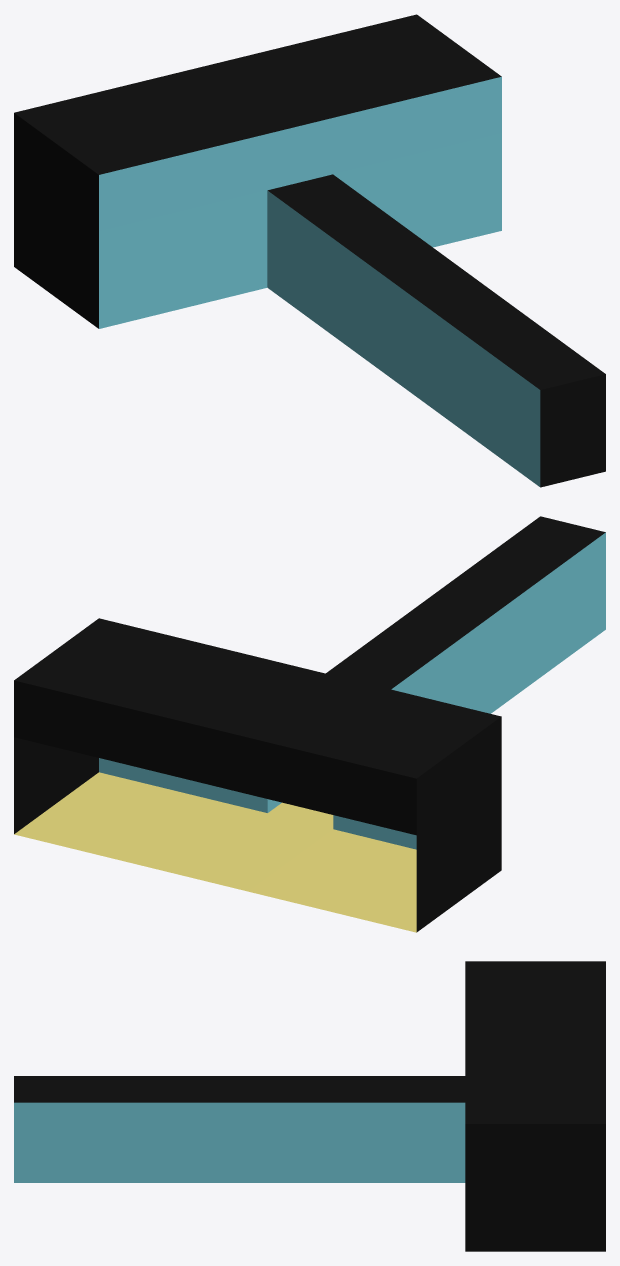
The model's file is HALLWAYOP.fbx.
3 views of the same model, one above another, from view 1: azimuth 30°, elevation 25°; view 2: azimuth 150°, elevation 25°; view 3: azimuth 270°, elevation 25° (orthographic). The views are drawn at different scales.
Parts seen in each view (by area): view 1: Cube.004; view 2: Cube.004; view 3: Cube.004.
Boxes of the visible parts, x1=… form: Cube.004: x1=14, y1=14, x2=605, y2=487; Cube.004: x1=14, y1=516, x2=605, y2=932; Cube.004: x1=14, y1=961, x2=605, y2=1251.
Size of the model in its own units: 7435 by 2718 by 11442.
